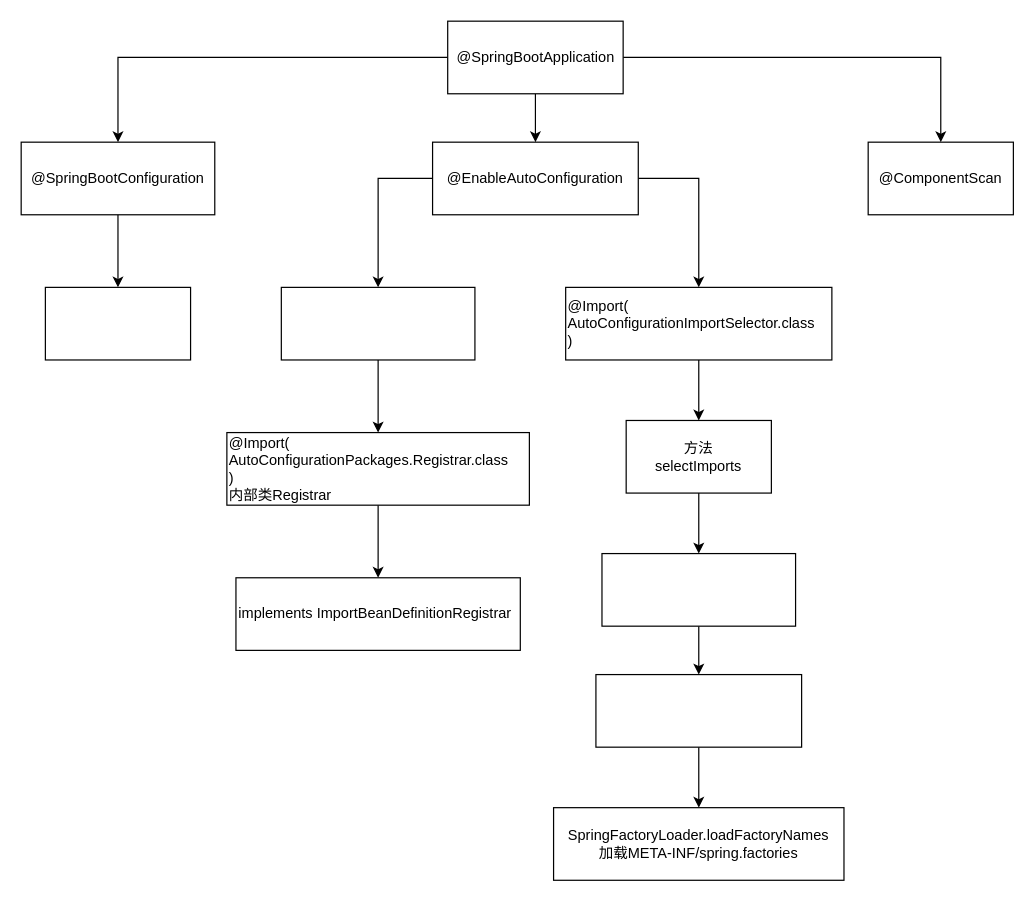
Some shapes in this 1035 by 901 pixel diagram are drawn without their labels. Each missing label, with the centre of its shape:
@AutoConfigurationPackage: pixel 377 323
@Configuration: pixel 117 323
方法 getCandidateConfigurations: pixel 698 710
方法getAutoConfigurationEntry: pixel 698 589
